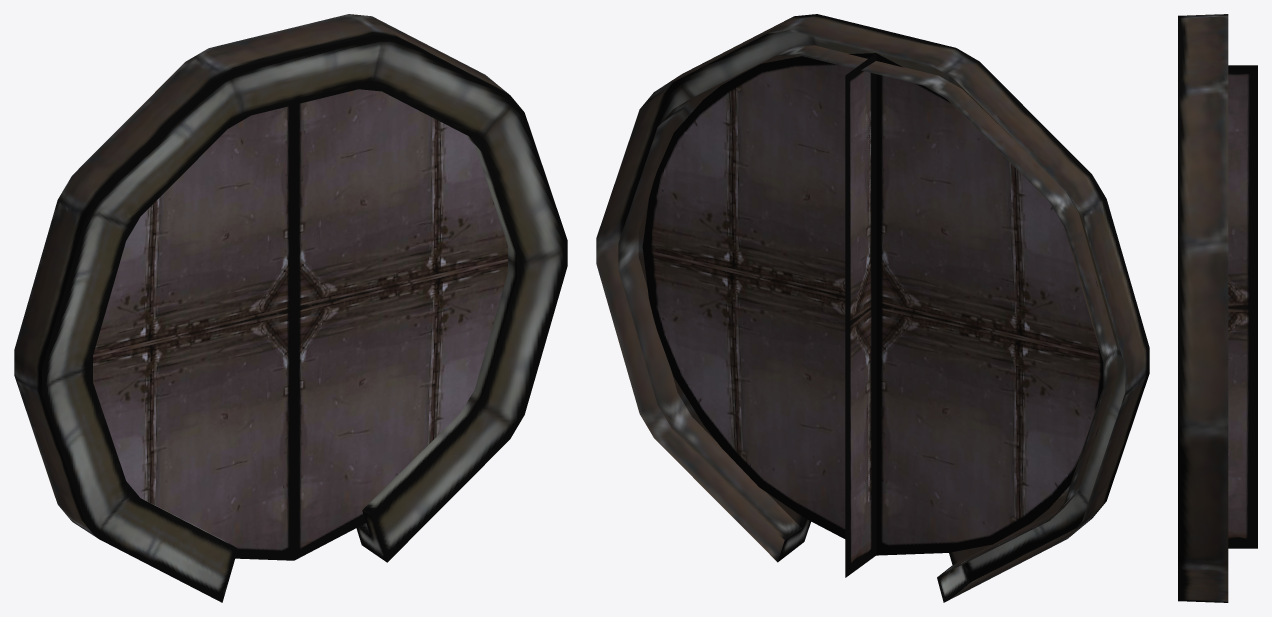
File: Doortest.fbx
The picture shows the model from 3 angles, left to right: view 1: azimuth 30°, elevation 25°; view 2: azimuth 150°, elevation 25°; view 3: azimuth 270°, elevation 25°; orthographic projection. The views are drawn at different scales.
Parts seen in each view (by area): view 1: Kozijn, deur_rechts, deur_rechts1; view 2: deur_rechts, deur_rechts1, Kozijn; view 3: Kozijn, deur_rechts, deur_rechts1.
Boxes of the visible parts, x1,y1,x2,y2 form: Kozijn: (14, 14, 567, 602); deur_rechts: (294, 89, 507, 560); deur_rechts1: (93, 105, 294, 560); deur_rechts: (642, 53, 876, 577); deur_rechts1: (846, 53, 1103, 555); Kozijn: (596, 14, 1149, 602); Kozijn: (1178, 14, 1228, 602); deur_rechts: (1228, 65, 1257, 548); deur_rechts1: (1228, 221, 1257, 379).
Bounding box in the file's own units: 4.96 × 4.78 × 0.6739.
Materials: 1 (1 with a texture image).
